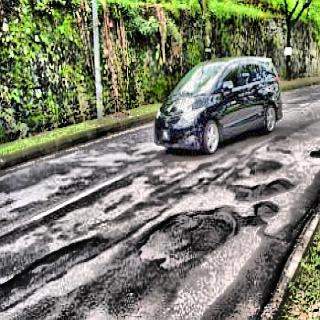crack: (0, 231, 99, 289)
pothole: (147, 200, 238, 273), (254, 176, 293, 220), (308, 150, 320, 160)
